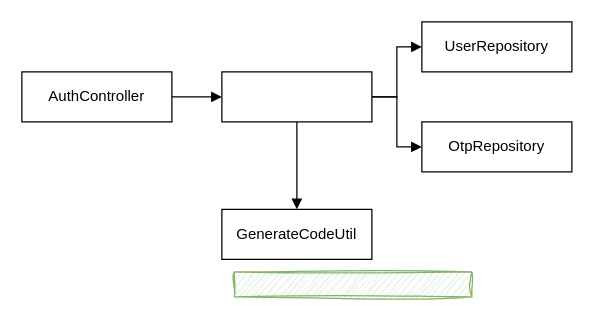
This 594x319 diagram has some shape labels left out. The shapes that lost their labels are listed below. From the top down, each one's centre as x and y in pixels, then its label:
point (296, 96): UserService
point (352, 284): OTP 로 이용될 코드 생성 유틸리티
